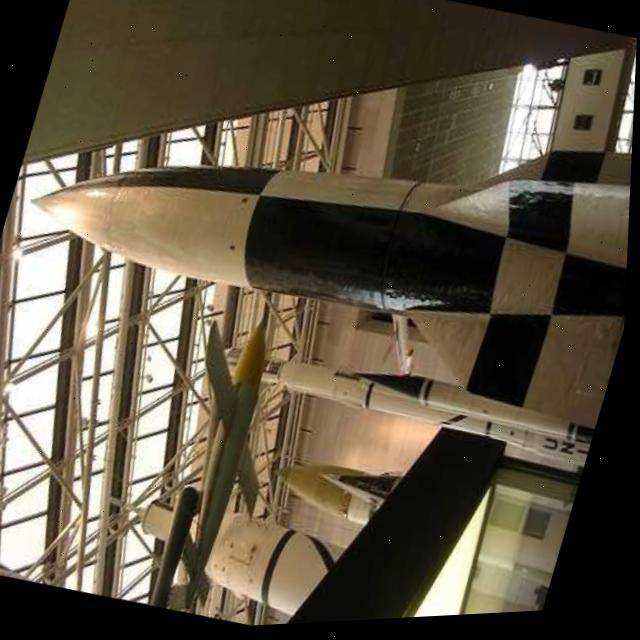missile: (0, 9, 639, 464)
